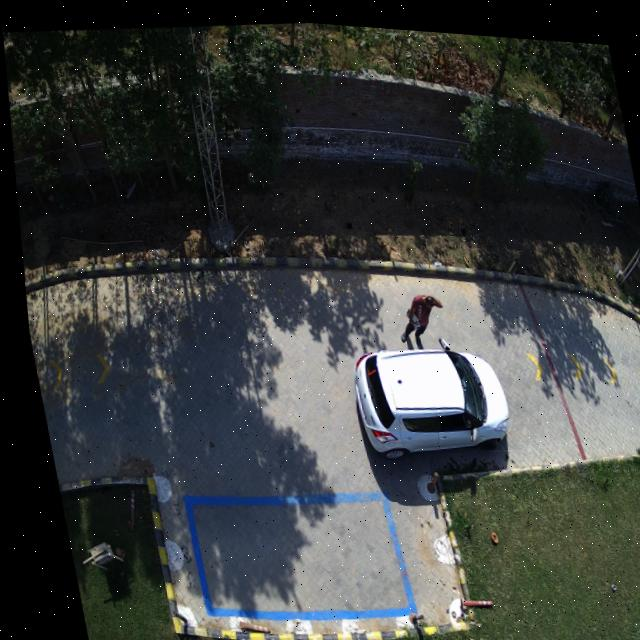car: (347, 331, 502, 453)
